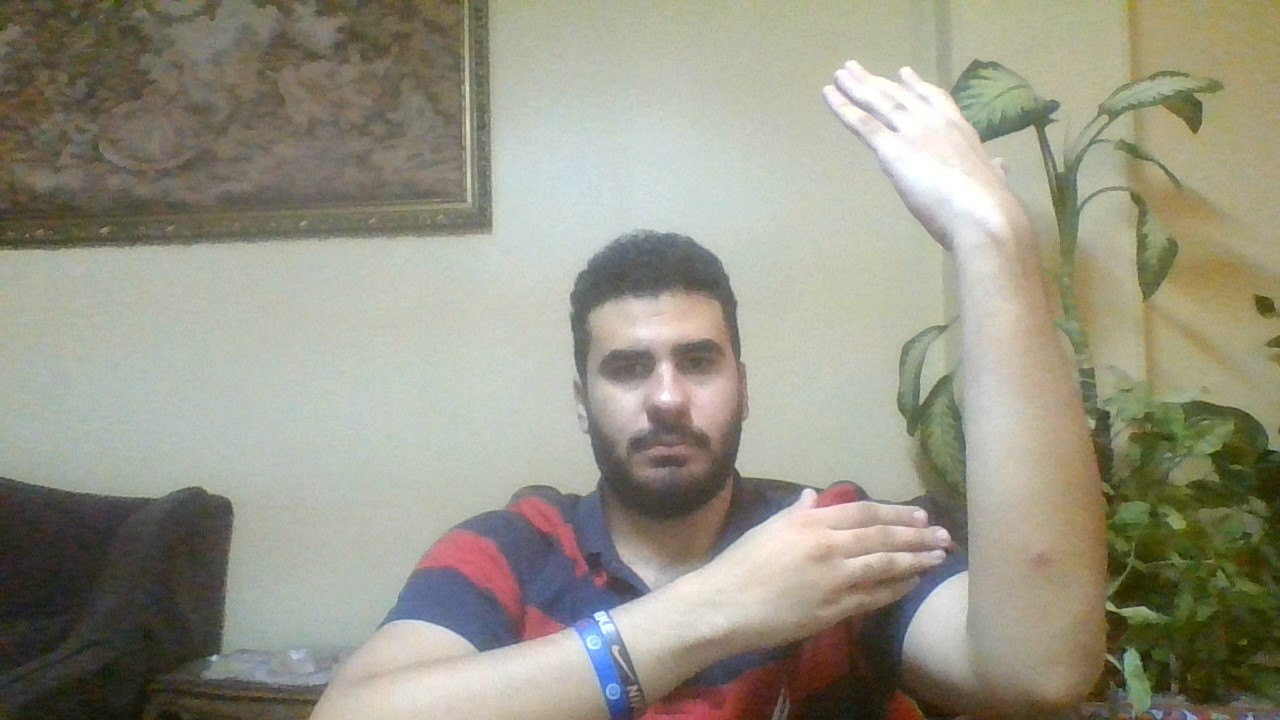morning: (735, 38, 1135, 702)
